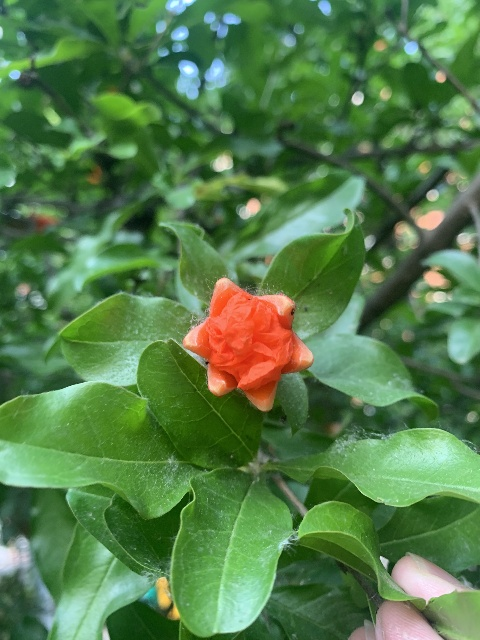flower: (182, 278, 312, 410)
